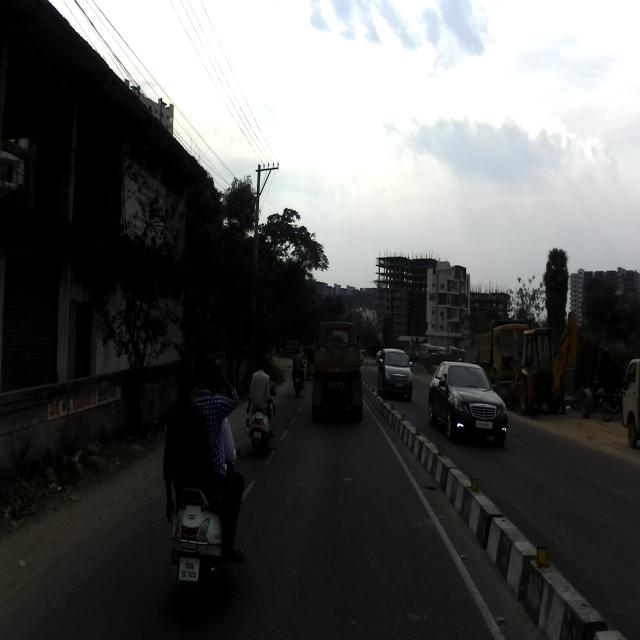car ahead at: (427, 352, 511, 450)
motorcycle ahead at: (164, 480, 248, 593)
truck ahead at: (311, 316, 364, 429)
